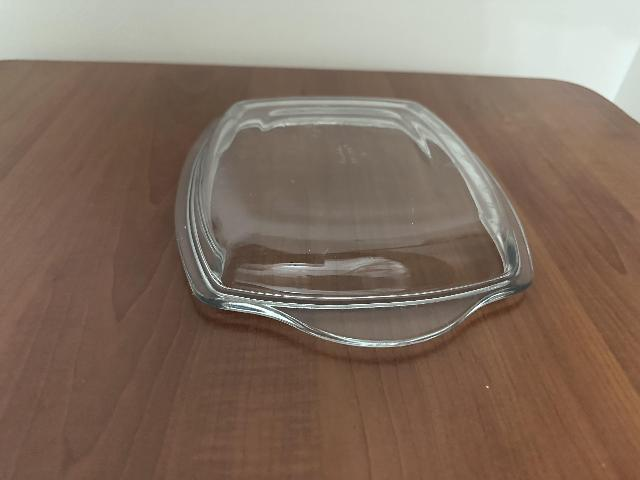Cam: (178, 98, 535, 351)
